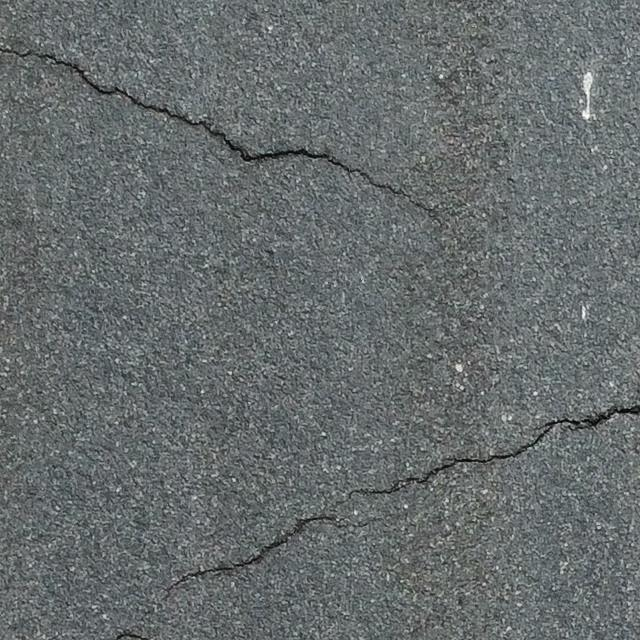TransverseCrack: (160, 403, 640, 597), (1, 45, 436, 212)
